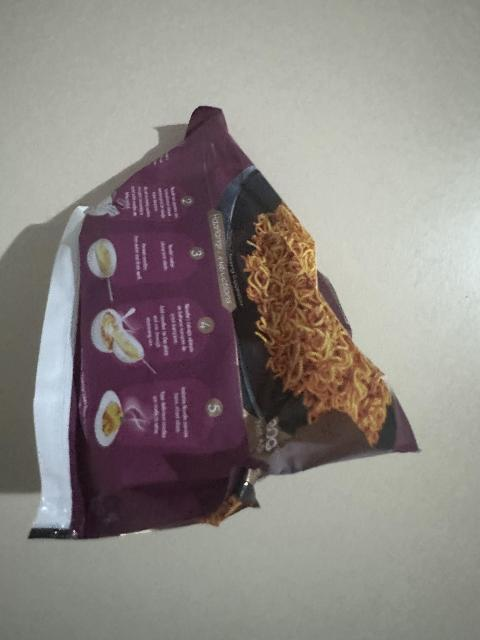Plastik: (44, 113, 416, 530)
